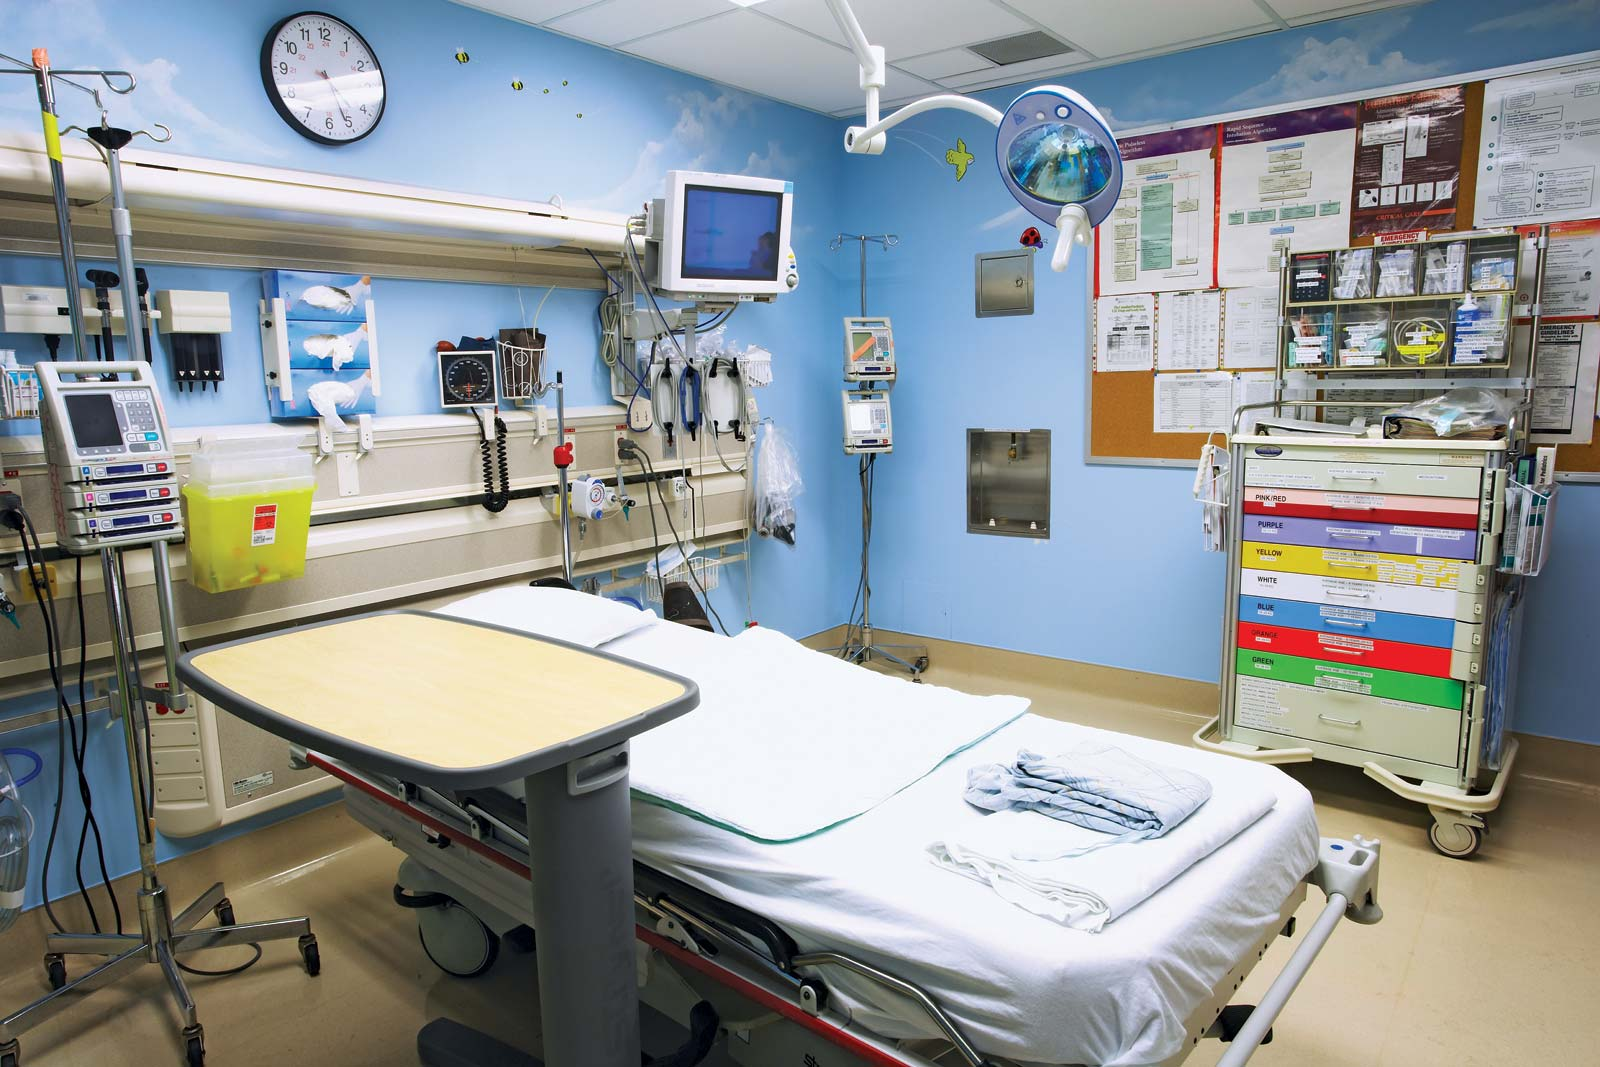bedside_monitor: (650, 149, 805, 314)
dispenser: (269, 377, 379, 428), (267, 322, 377, 370), (265, 270, 375, 319)
hospital_bed: (279, 579, 1396, 1046)
infusion_pump: (38, 360, 188, 557), (836, 392, 901, 453), (840, 322, 906, 382)
iv_pole: (58, 116, 254, 705), (807, 225, 932, 690), (1, 38, 140, 392)
medical_drawer: (1200, 388, 1600, 867)
medical_waste_container: (180, 423, 321, 594)
overbed_table: (154, 603, 702, 1067)
